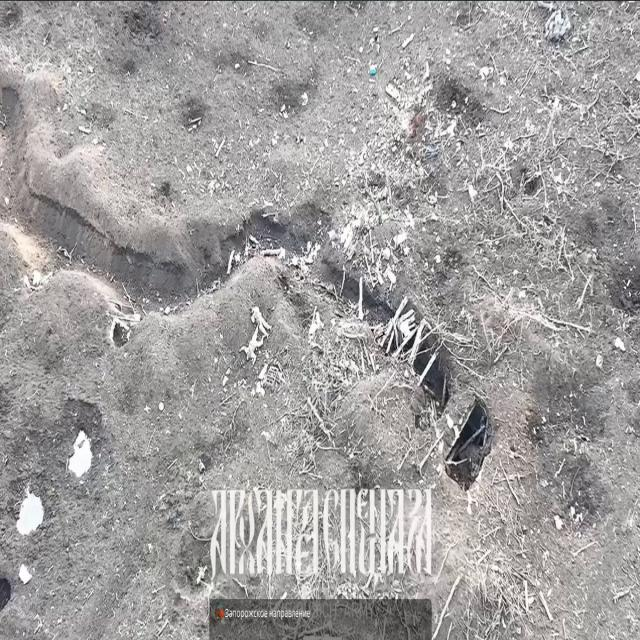fortification: (1, 130, 200, 345), (374, 261, 514, 503), (194, 116, 338, 284), (300, 180, 396, 347)
infantry: (248, 300, 274, 338), (242, 326, 262, 366)
